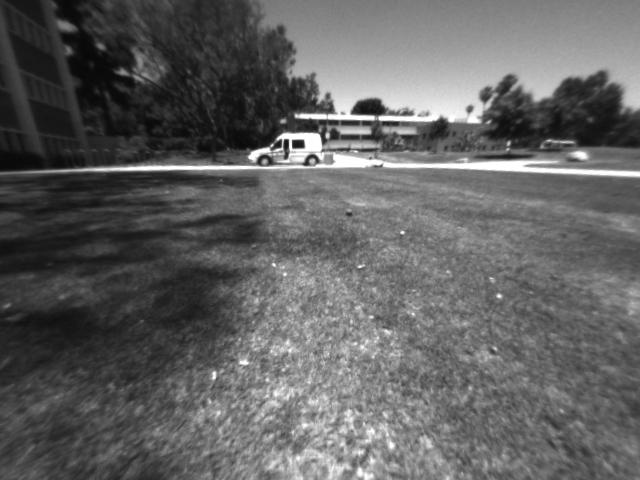dogtoy: (336, 200, 364, 226)
